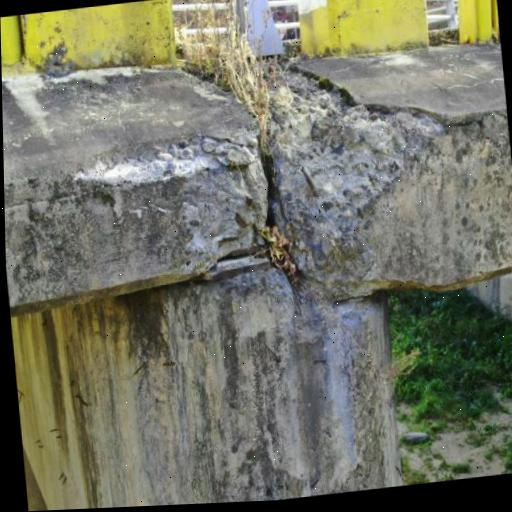exposed_rebar: (226, 243, 260, 259), (301, 167, 317, 196), (265, 344, 281, 362), (137, 367, 147, 395), (219, 235, 239, 248), (132, 362, 146, 377), (235, 212, 247, 229), (76, 394, 91, 406), (59, 471, 67, 485), (245, 196, 254, 207), (252, 231, 259, 245), (18, 389, 25, 403), (35, 440, 44, 449), (189, 220, 200, 227), (396, 465, 402, 477), (187, 248, 191, 266), (314, 359, 327, 364), (163, 362, 175, 367), (311, 480, 319, 487), (51, 427, 58, 433), (42, 319, 47, 327), (57, 436, 61, 440), (51, 430, 57, 431)
spalling: (270, 71, 444, 284)
